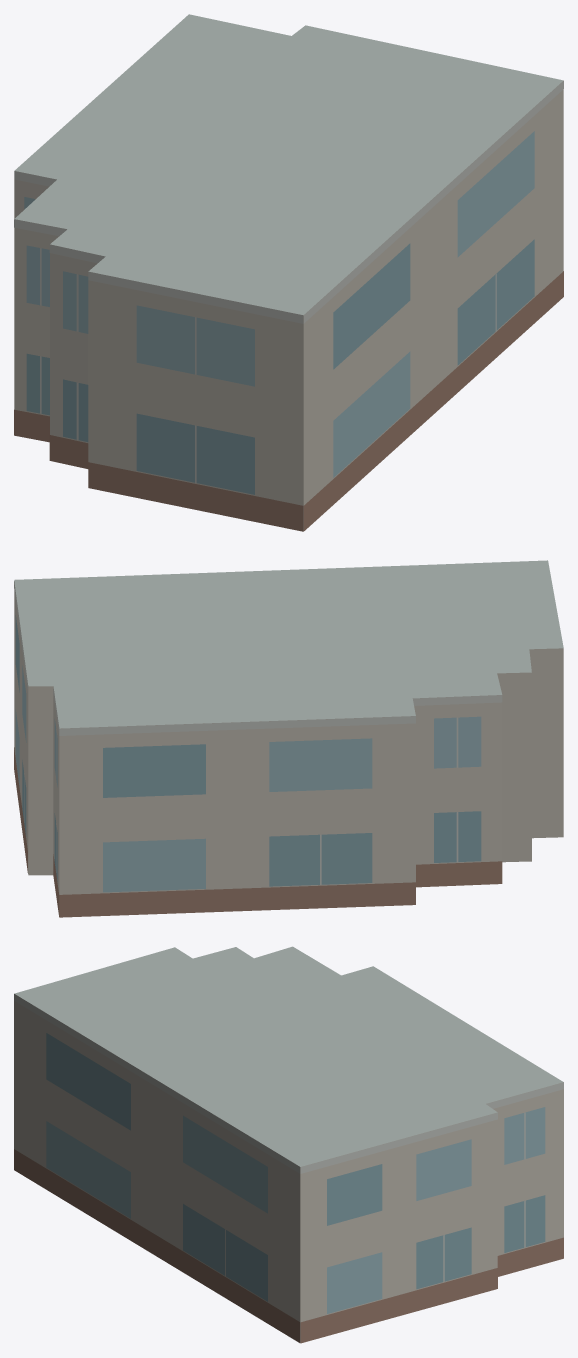
File: survey-upis-32892668.glb
3 renders of one model, top to bottom at view 1: azimuth 30°, elevation 25°; view 2: azimuth 150°, elevation 25°; view 3: azimuth 270°, elevation 25°, orthographic. The views are drawn at different scales.
Visible parts, largest first — view 1: survey-upis-32892668.tmp; view 2: survey-upis-32892668.tmp; view 3: survey-upis-32892668.tmp.
Boxes of the visible parts, x1=… form: survey-upis-32892668.tmp: x1=14, y1=14, x2=563, y2=531; survey-upis-32892668.tmp: x1=14, y1=560, x2=563, y2=917; survey-upis-32892668.tmp: x1=14, y1=946, x2=563, y2=1343.
Size of the model in its own units: 16.36 by 6.1 by 17.23.
